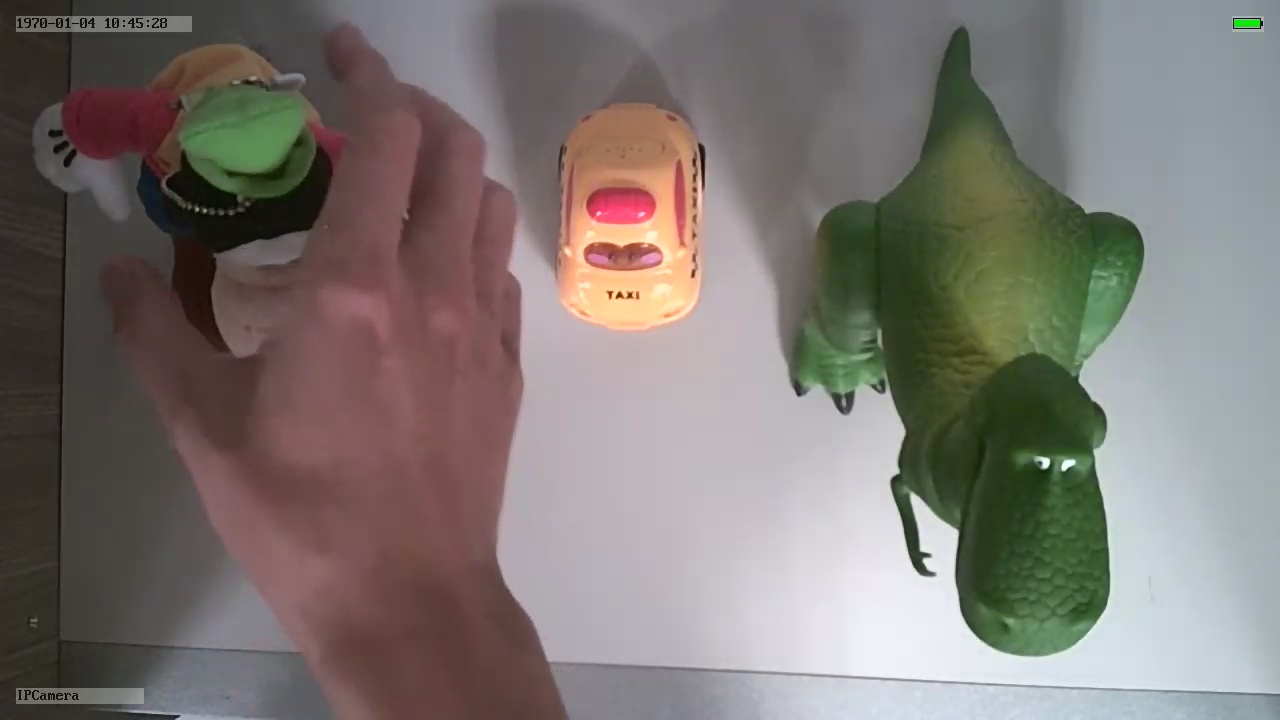car: (550, 94, 709, 330)
rex: (792, 113, 1143, 655)
